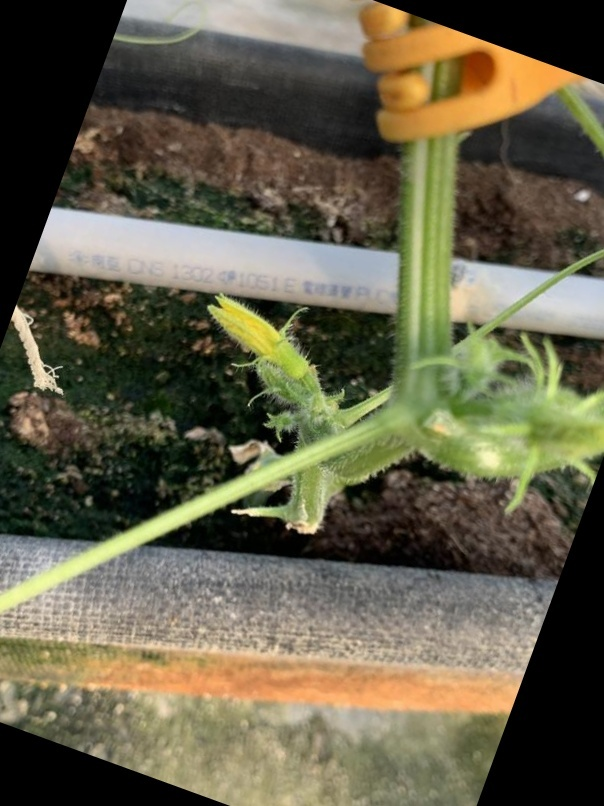bud: (201, 293, 316, 383)
